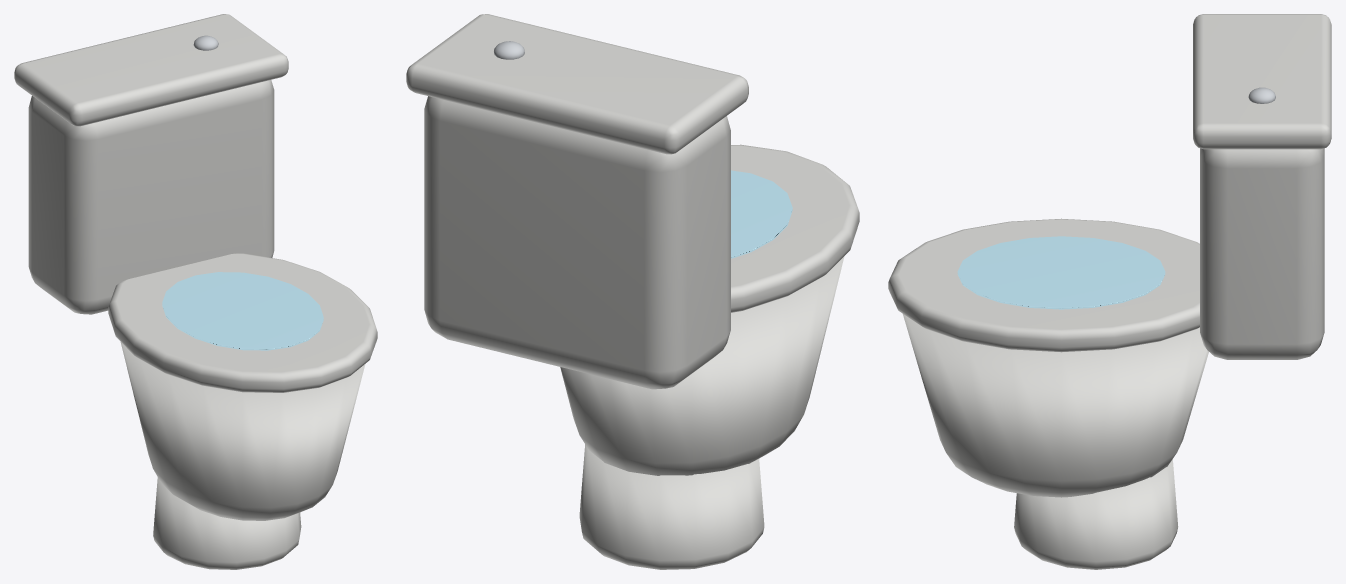
The model's file is prop_toilet.glb.
The picture shows the model from 3 angles, left to right: view 1: azimuth 30°, elevation 25°; view 2: azimuth 150°, elevation 25°; view 3: azimuth 270°, elevation 25°; orthographic projection. The views are drawn at different scales.
Parts seen in each view (by area): view 1: prop_toilet; view 2: prop_toilet; view 3: prop_toilet.
Part boxes in pixels (bbox=[...]): prop_toilet: bbox=[14, 14, 377, 569]; prop_toilet: bbox=[406, 14, 859, 569]; prop_toilet: bbox=[888, 14, 1331, 569].
Bounding box in the file's own units: 0.5 × 0.955 × 0.8.
